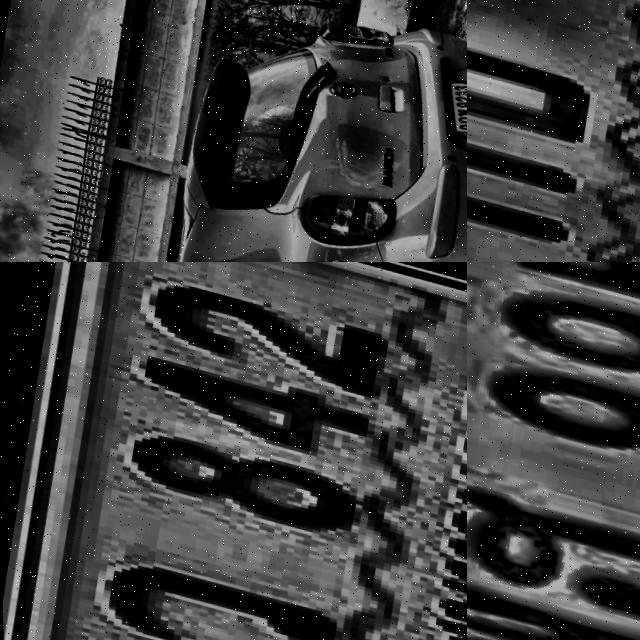license-plate: (0, 262, 467, 640), (467, 262, 640, 640), (467, 0, 640, 262), (433, 57, 467, 140)
